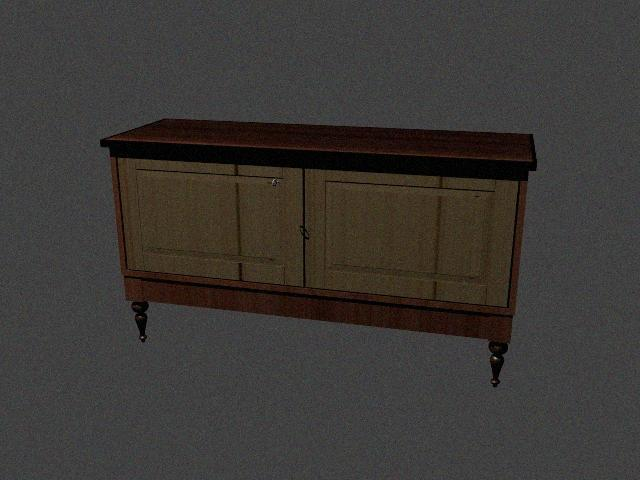cabinet_door: (303, 174, 513, 298), (122, 163, 303, 277)
